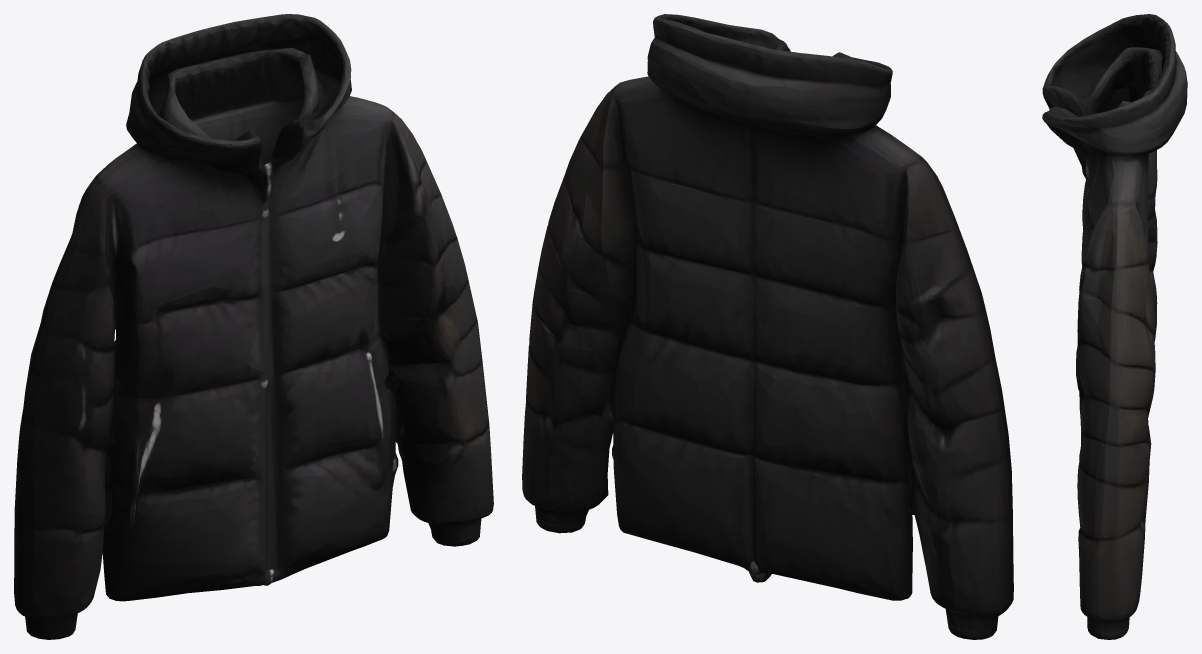
File: jacket_puffer_black.glb
3 views of the same model, side by side, from view 1: azimuth 30°, elevation 25°; view 2: azimuth 150°, elevation 25°; view 3: azimuth 270°, elevation 25° (orthographic). The views are drawn at different scales.
Visible parts, largest first — view 1: geometry_0; view 2: geometry_0; view 3: geometry_0.
Boxes of the visible parts, x1,y1,x2,y2 form: geometry_0: [14, 14, 493, 639]; geometry_0: [522, 14, 1013, 639]; geometry_0: [1042, 14, 1187, 639].
Bounding box in the file's own units: 0.9035 × 0.998 × 0.2668.
1 material, 1 textured.
